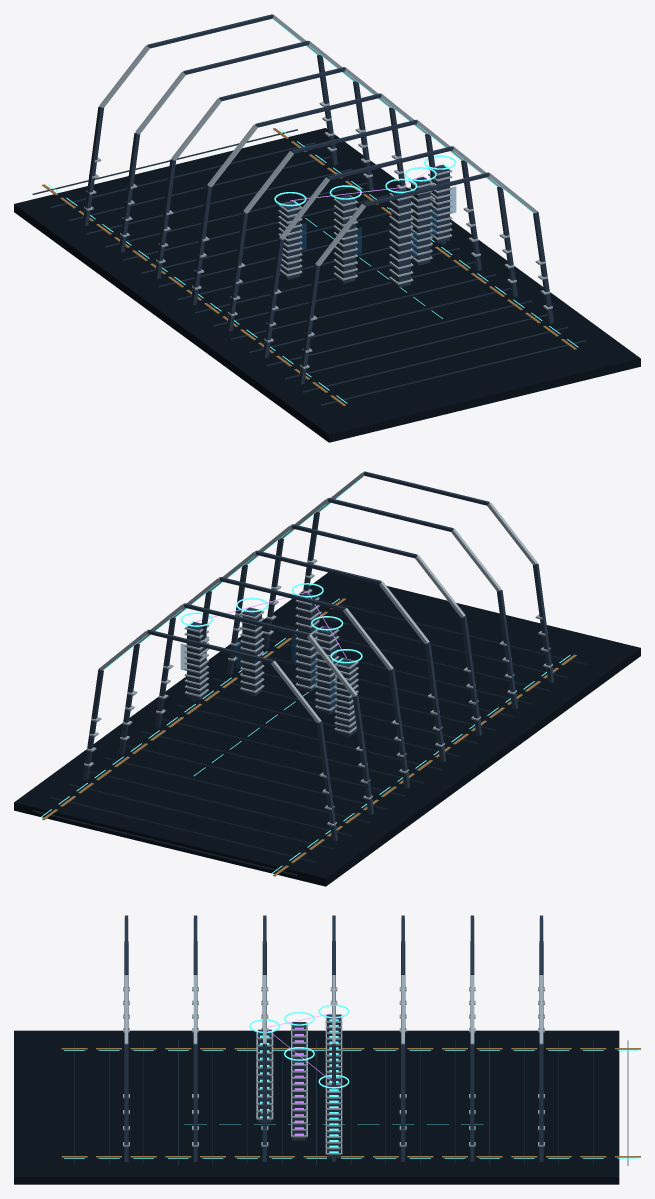
File: relay-desktop.glb
The picture shows the model from 3 angles, top to bottom: view 1: azimuth 30°, elevation 25°; view 2: azimuth 150°, elevation 25°; view 3: azimuth 270°, elevation 25°; orthographic projection. The views are drawn at different scales.
Parts seen in each view (by area): view 1: object 1, architectural-heart, object 87, object 177, object 132, object 117, object 147, object 162, object 102, object 94, object 109, object 101 (+7 smaller); view 2: object 1, architectural-heart, object 177, object 132, object 87, object 162, object 102, object 117, object 147, object 184, object 169, object 101 (+8 smaller); view 3: object 1, architectural-heart, object 94, object 184, object 109, object 124, object 154, object 169.
Boxes of the visible parts, <box> form: object 1: <box>14,128,640,442</box>; architectural-heart: <box>274,155,456,318</box>; object 87: <box>299,264,320,384</box>; object 177: <box>82,106,103,225</box>; object 132: <box>191,185,212,305</box>; object 117: <box>227,212,248,331</box>; object 147: <box>155,159,176,278</box>; object 162: <box>119,132,140,252</box>; object 102: <box>263,238,284,357</box>; object 94: <box>533,211,553,323</box>; object 109: <box>497,186,517,297</box>; object 101: <box>363,172,489,206</box>; object 1: <box>14,572,640,886</box>; architectural-heart: <box>180,583,362,775</box>; object 177: <box>316,721,337,841</box>; object 132: <box>424,642,445,762</box>; object 87: <box>533,563,553,683</box>; object 162: <box>352,695,373,814</box>; object 102: <box>496,590,517,709</box>; object 117: <box>461,616,481,735</box>; object 147: <box>388,669,409,788</box>; object 184: <box>83,668,103,780</box>; object 169: <box>119,644,139,754</box>; object 101: <box>363,471,489,505</box>; object 1: <box>14,1030,619,1184</box>; architectural-heart: <box>184,1004,483,1158</box>; object 94: <box>124,1044,128,1161</box>; object 184: <box>539,1044,543,1161</box>; object 109: <box>193,1044,197,1161</box>; object 124: <box>262,1044,266,1161</box>; object 154: <box>401,1044,405,1161</box>; object 169: <box>470,1044,474,1161</box>.
Size of the model in its own units: 20 by 10.64 by 36.25.
